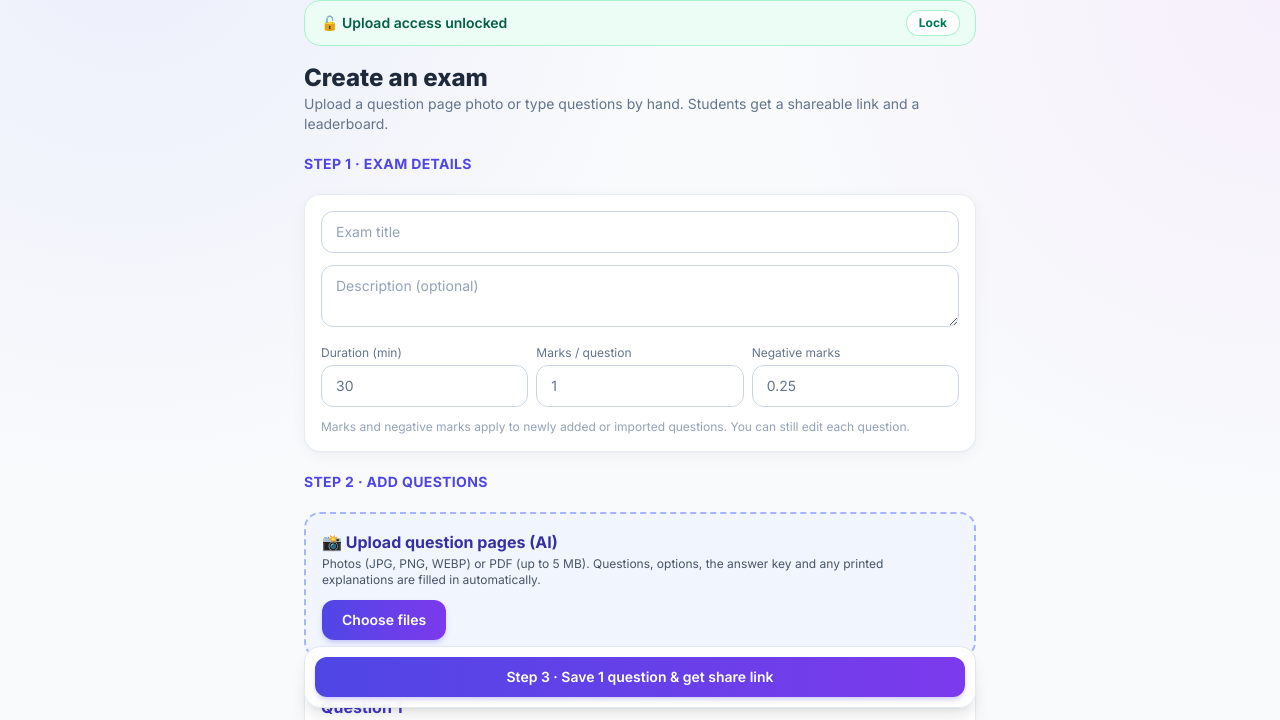
Test: Lock puts the gate back and forgets the key
The width and height of the screenshot is (1280, 720).
Click the button "Lock". click: (933, 23)
box: x1=907 y1=11 x2=959 y2=35
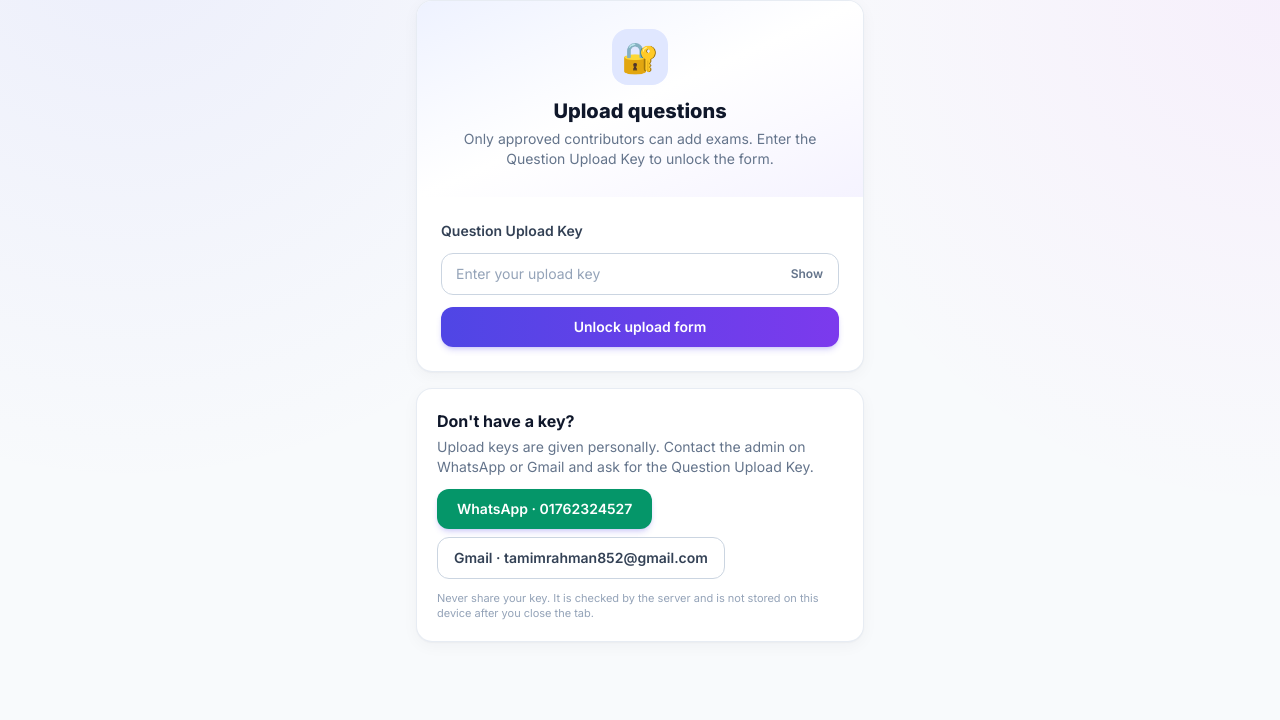
Expected: the heading "Upload questions" is shown, x1=553 y1=99 x2=727 y2=123
